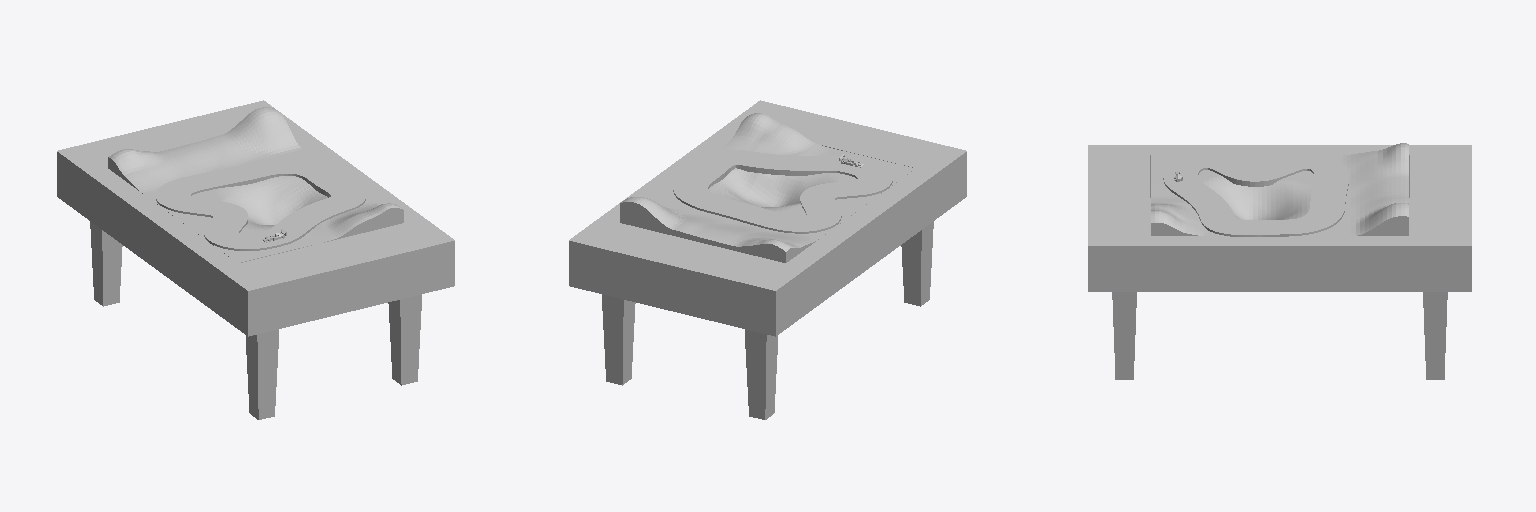
The model's file is NewestTisch56.obj.
The picture shows the model from 3 angles: view 1: azimuth 30°, elevation 25°; view 2: azimuth 150°, elevation 25°; view 3: azimuth 270°, elevation 25°; orthographic projection.
Visible parts, largest first — view 1: Tischplatte_wood_table_001, Landschaft_aerial_grass_rock, off, Bein1_wood_table_001, Bein4_wood_table_001.003, Bein3_wood_table_001.002; view 2: Tischplatte_wood_table_001, Landschaft_aerial_grass_rock, off, Bein2_wood_table_001.001, Bein3_wood_table_001.002, Bein4_wood_table_001.003; view 3: Tischplatte_wood_table_001, Landschaft_aerial_grass_rock, off, Bein1_wood_table_001, Bein2_wood_table_001.001.
Boxes of the visible parts, <box> form: Tischplatte_wood_table_001: <box>57,100,454,336</box>; Landschaft_aerial_grass_rock: <box>108,107,403,262</box>; off: <box>156,159,365,250</box>; Bein1_wood_table_001: <box>388,294,421,385</box>; Bein4_wood_table_001.003: <box>246,329,278,419</box>; Bein3_wood_table_001.002: <box>90,221,122,306</box>; Tischplatte_wood_table_001: <box>569,100,966,336</box>; Landschaft_aerial_grass_rock: <box>620,113,915,262</box>; off: <box>673,150,892,233</box>; Bein2_wood_table_001.001: <box>602,294,635,385</box>; Bein3_wood_table_001.002: <box>745,329,777,419</box>; Bein4_wood_table_001.003: <box>901,221,933,306</box>; Tischplatte_wood_table_001: <box>1088,145,1471,291</box>; Landschaft_aerial_grass_rock: <box>1151,143,1408,235</box>; off: <box>1163,153,1348,236</box>; Bein1_wood_table_001: <box>1112,292,1136,379</box>; Bein2_wood_table_001.001: <box>1423,292,1447,379</box>.
Bounding box in the file's own units: 5 × 3.91 × 8.